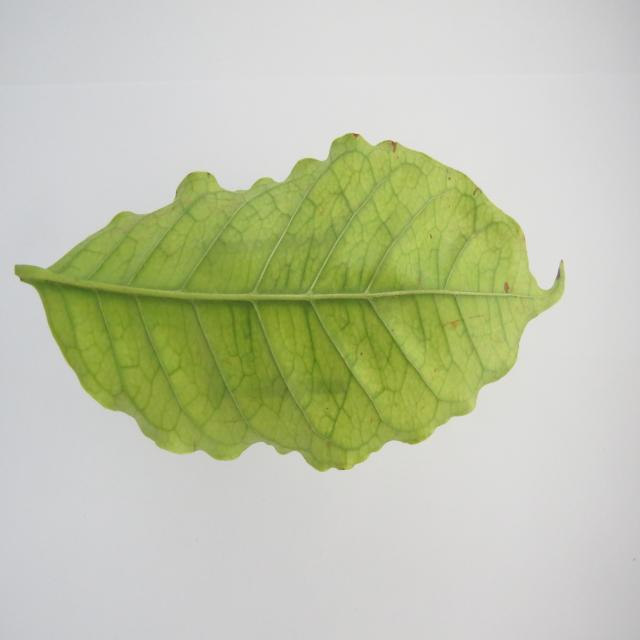DeficienciaNutricional-Calcio: (16, 135, 564, 470)
